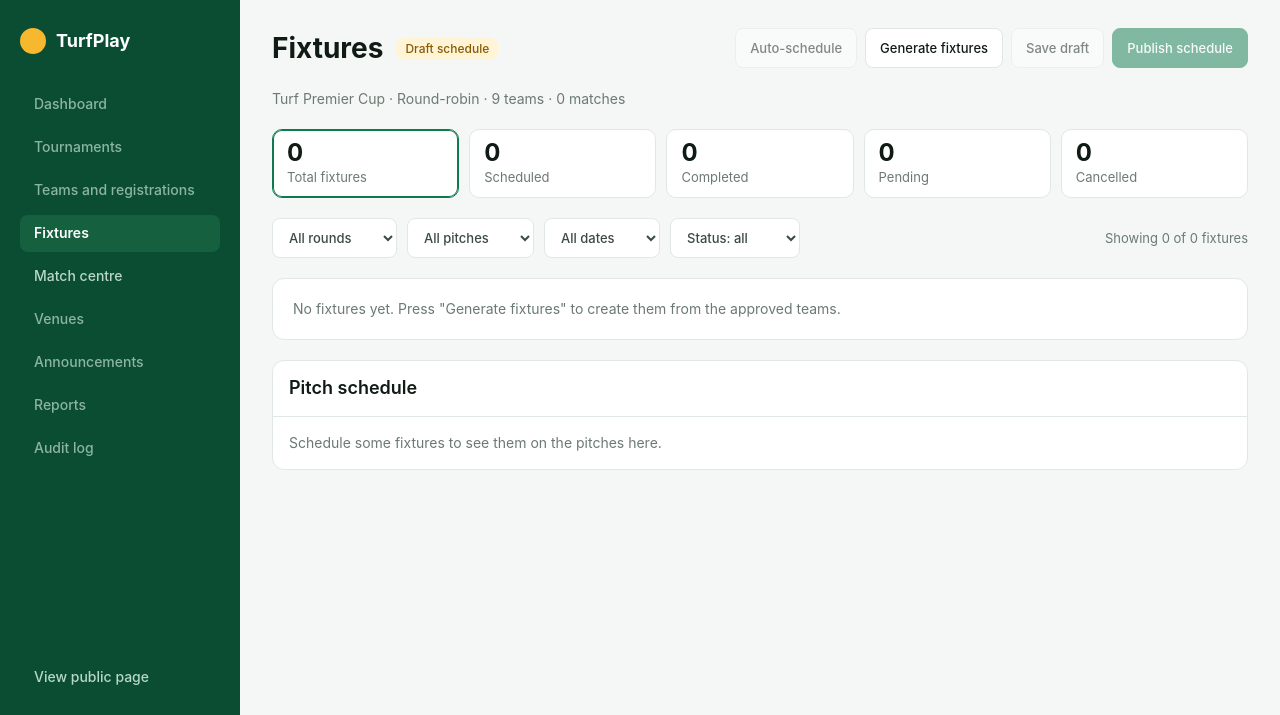
Test: Fixture Manager: generating › asks before replacing fixtures
Later steps or results of the test are not shown.
Click the button "Generate fixtures": (934, 48) [865, 28, 1003, 68]
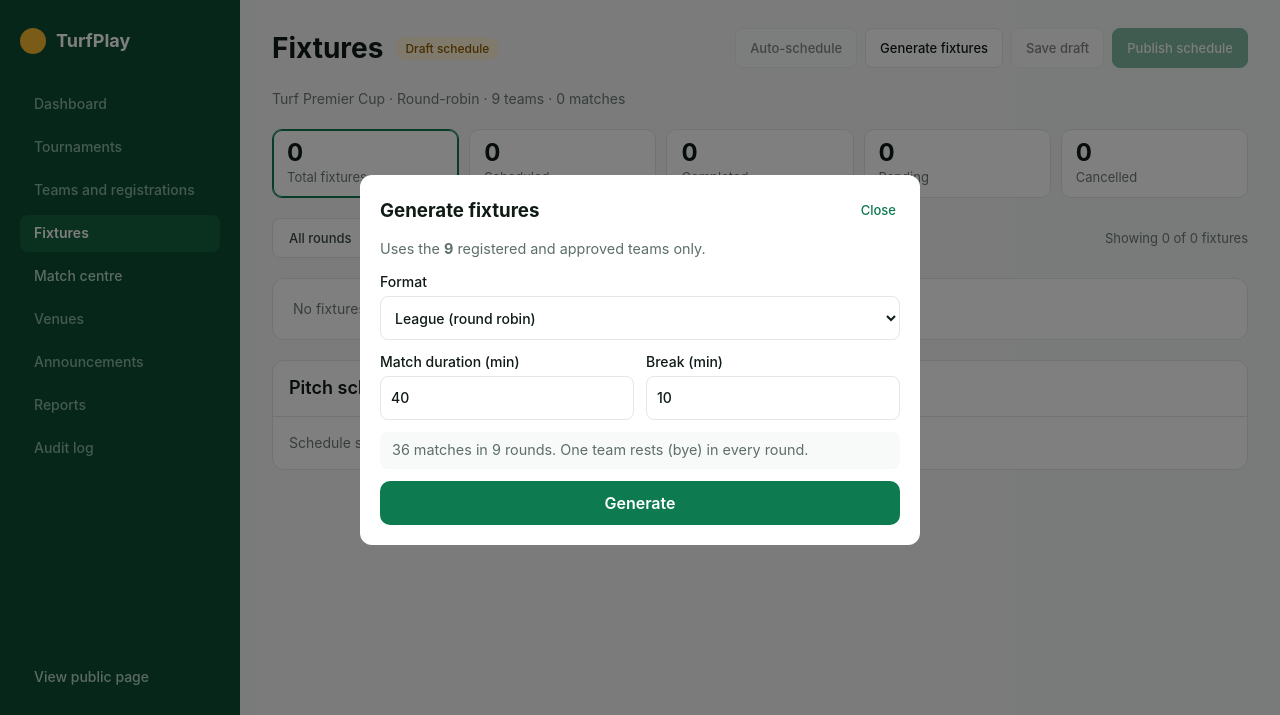
Click the button "Generate": (640, 503) [380, 481, 900, 525]
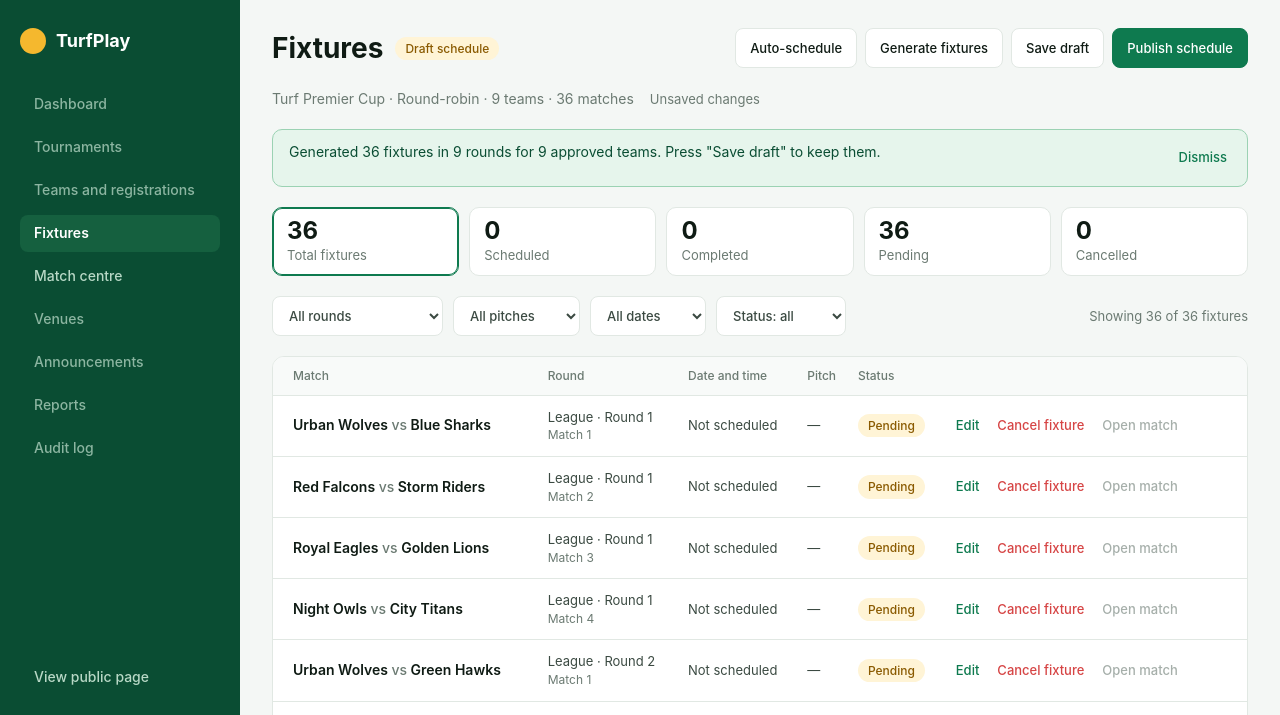
Click the button "Generate fixtures": (934, 48) [865, 28, 1003, 68]
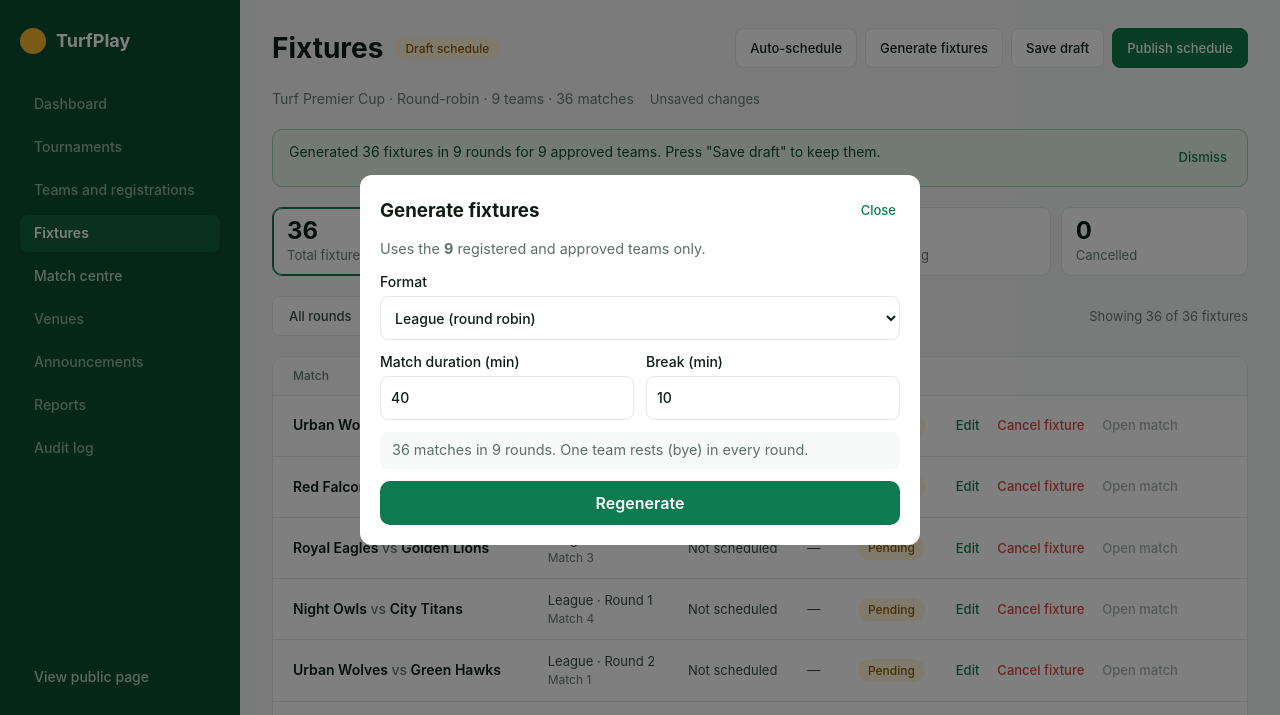
Click the button "Regenerate": (640, 503) [380, 481, 900, 525]
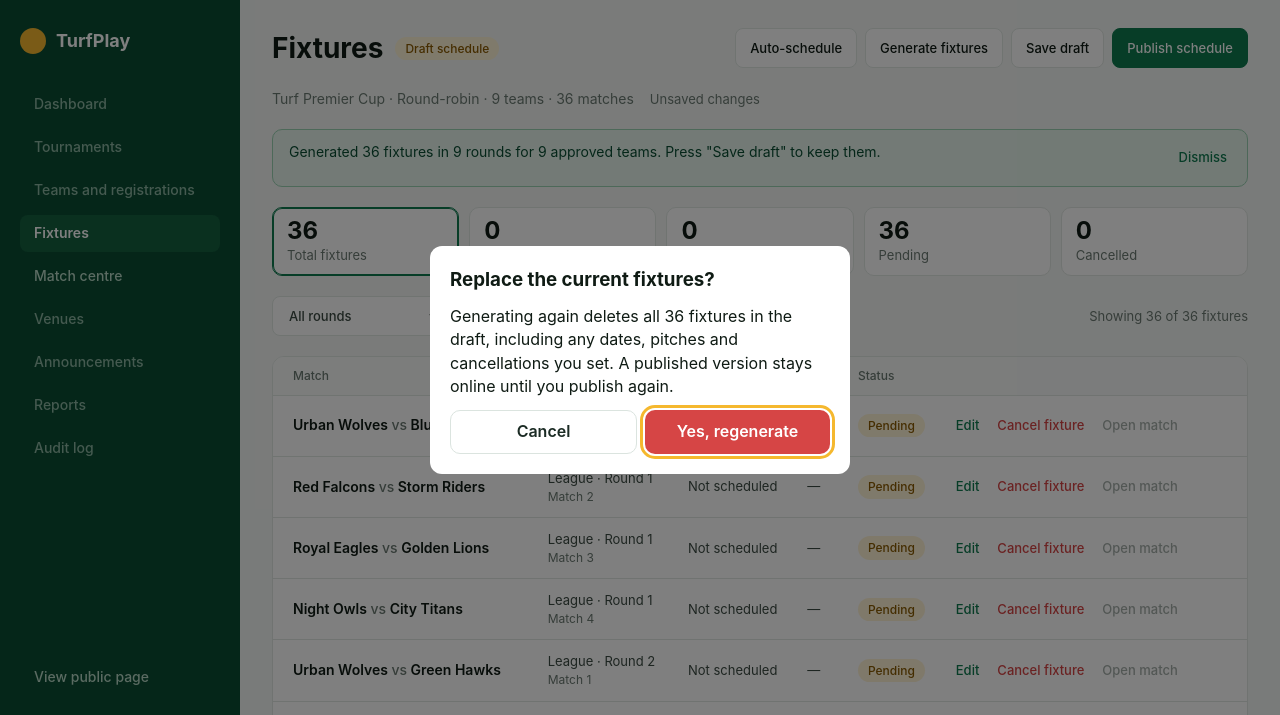
Check: the dialog shows "Replace the current fixtures?", box [450, 268, 715, 291]
